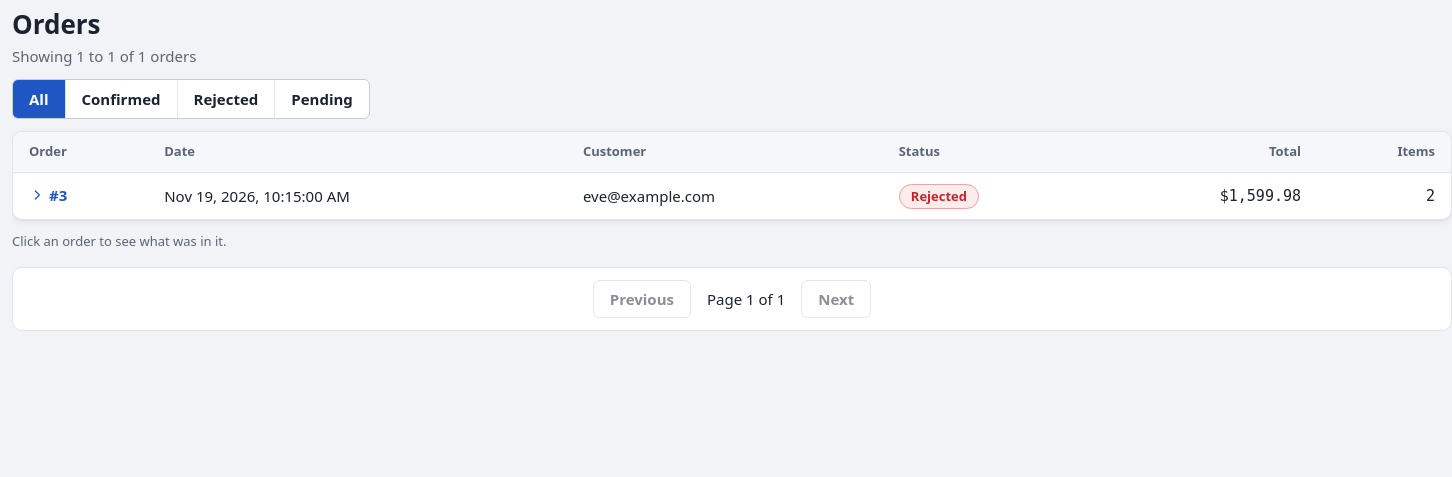
Test case: Admin orders page › opening an order › shows a reject reason as plain text, never as markup
The image size is (1452, 477).
Click the button named "Order #3": point(48, 195) [29,184,67,206]
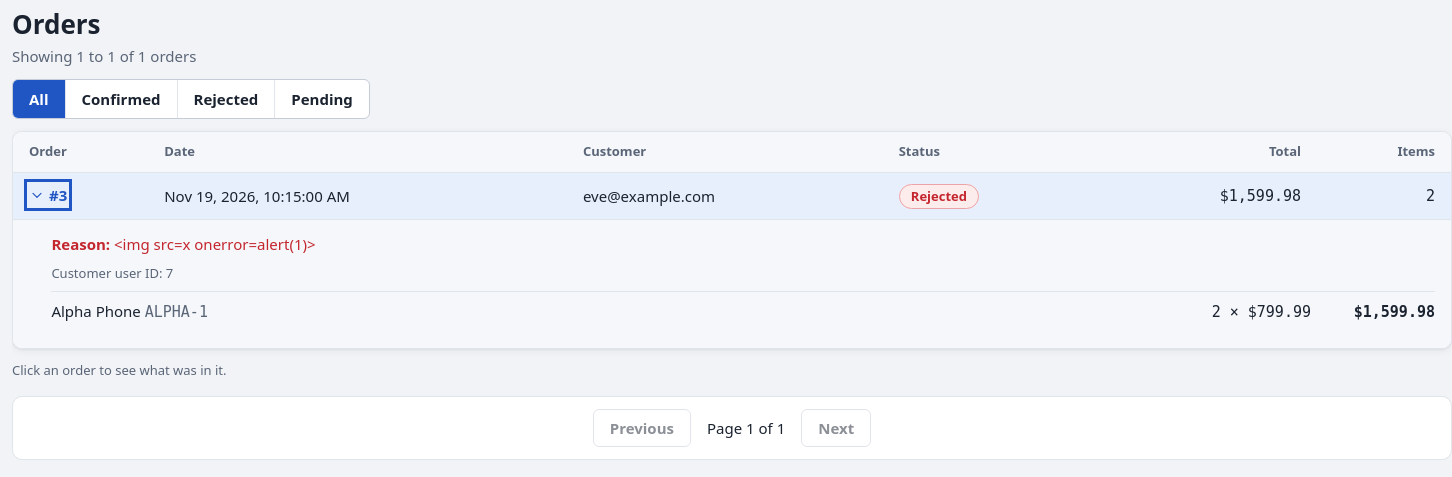
Check: the text "<img src=x onerror=alert(1)>" is shown, box [114,234,316,254]
